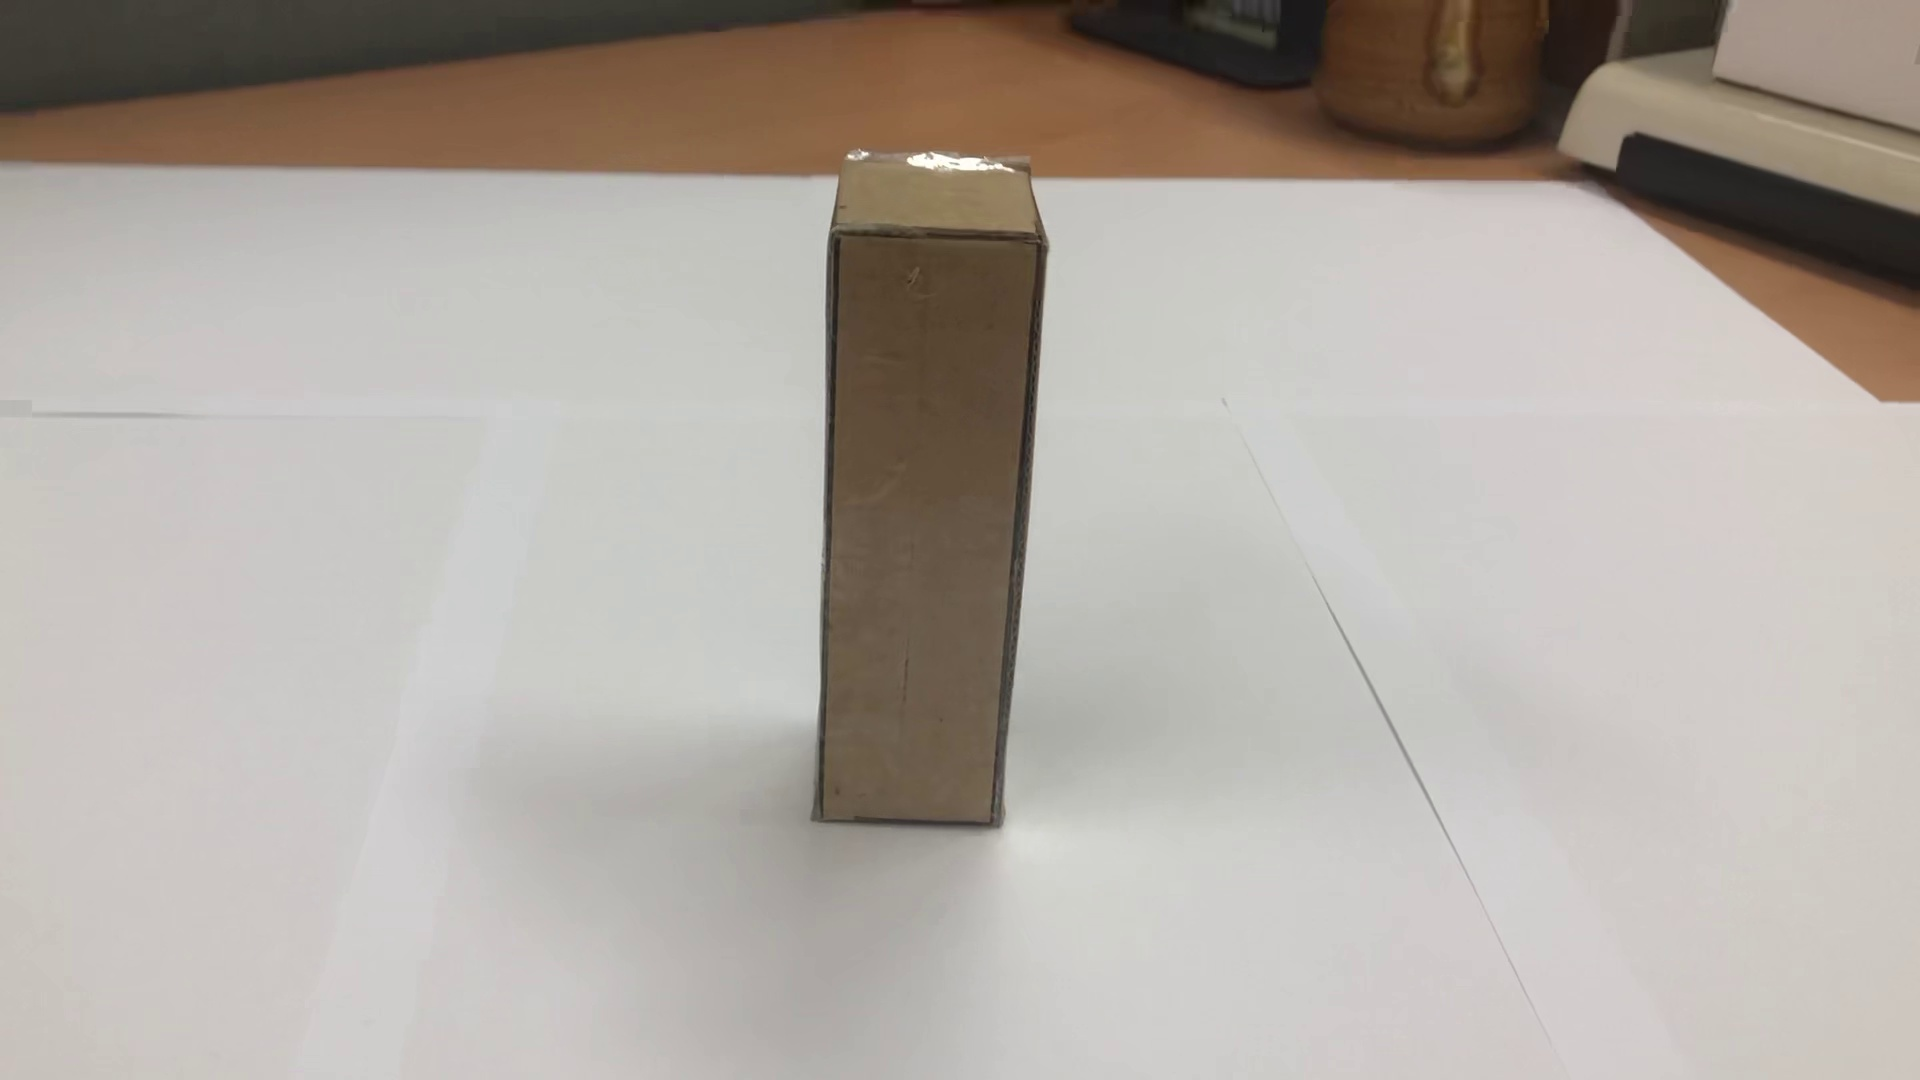box: (764, 113, 1093, 881)
